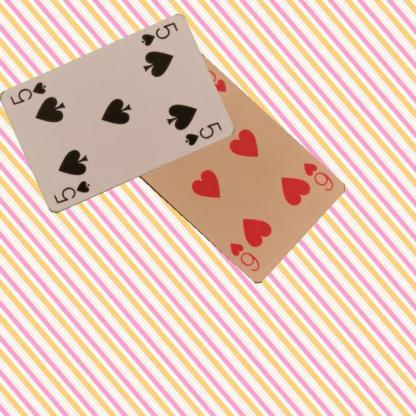5s: (138, 20, 179, 48), (51, 178, 91, 205)
6h: (300, 160, 334, 192)
